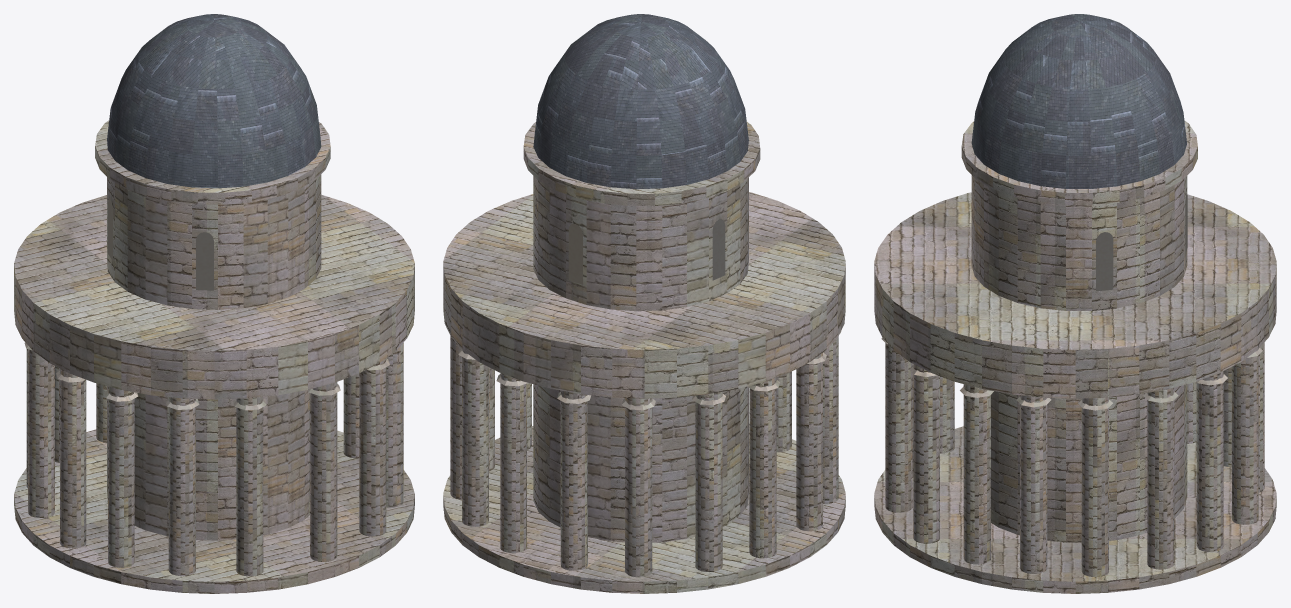
File: rotonde-de-chartres.glb
3 renders of one model, left to right at view 1: azimuth 30°, elevation 25°; view 2: azimuth 150°, elevation 25°; view 3: azimuth 270°, elevation 25°, orthographic.
Parts seen in each view (by area): view 1: stone, roof, window, trim; view 2: stone, roof, window, trim; view 3: stone, roof, window, trim.
Part boxes in pixels (x1,y1,x2,y2): stone: (14,120,414,593); roof: (107,14,321,188); window: (108,198,213,290); trim: (24,342,389,410); stone: (443,122,845,593); roof: (533,14,748,189); window: (568,219,725,284); trim: (458,330,841,410); stone: (874,120,1276,593); roof: (971,14,1186,188); window: (1096,193,1187,291); trim: (881,338,1262,410).
Bounding box in the file's own units: 14.93 × 20 × 14.95.
Materials: 4 (4 with a texture image).
